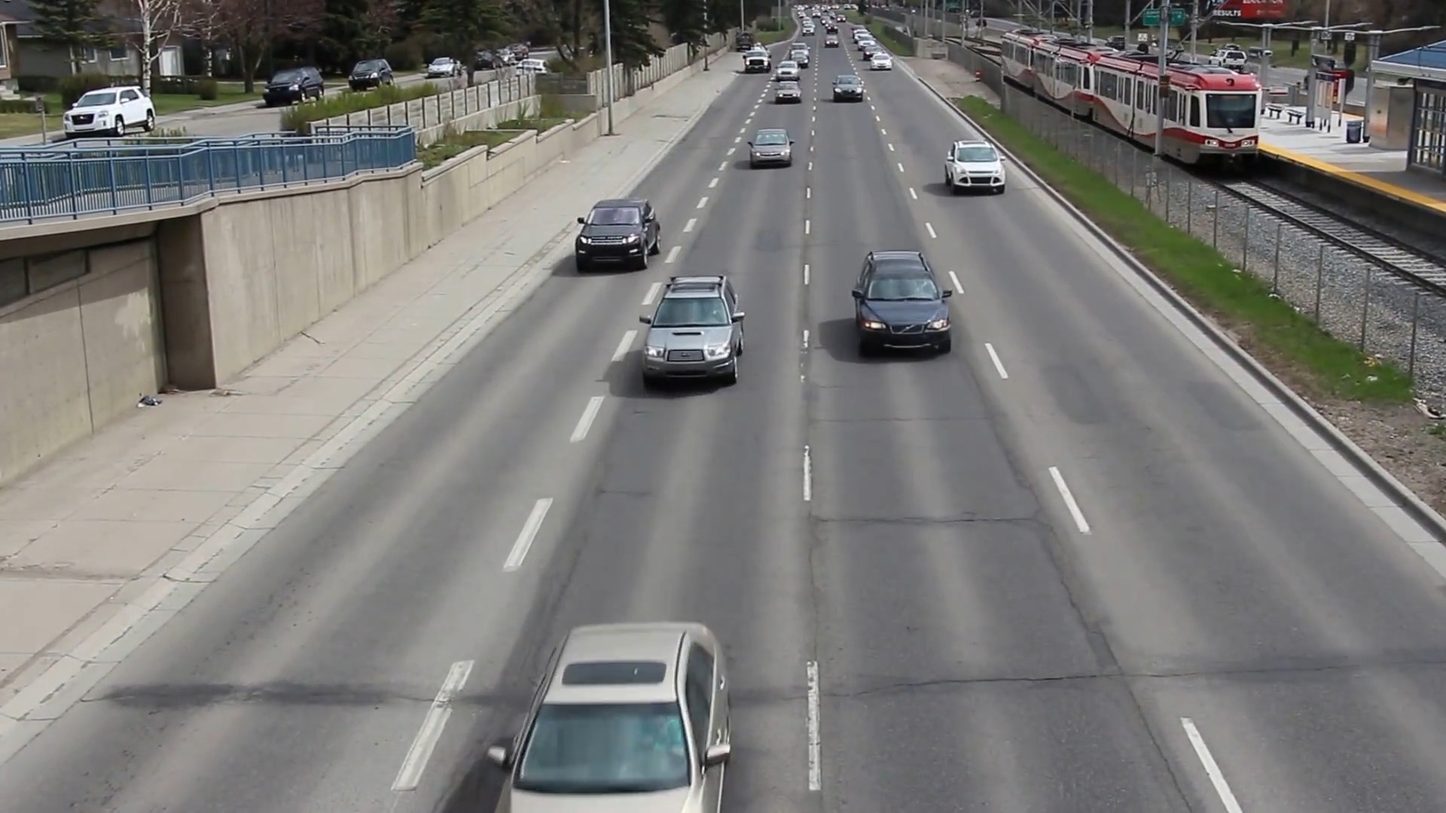car: (853, 247, 953, 362), (642, 275, 739, 387), (573, 199, 656, 268), (946, 142, 1007, 197), (746, 130, 792, 167)
